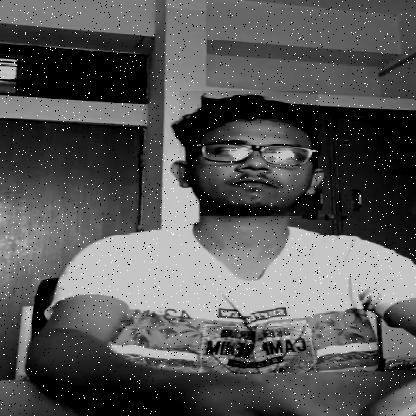Normal: (179, 91, 318, 216)
